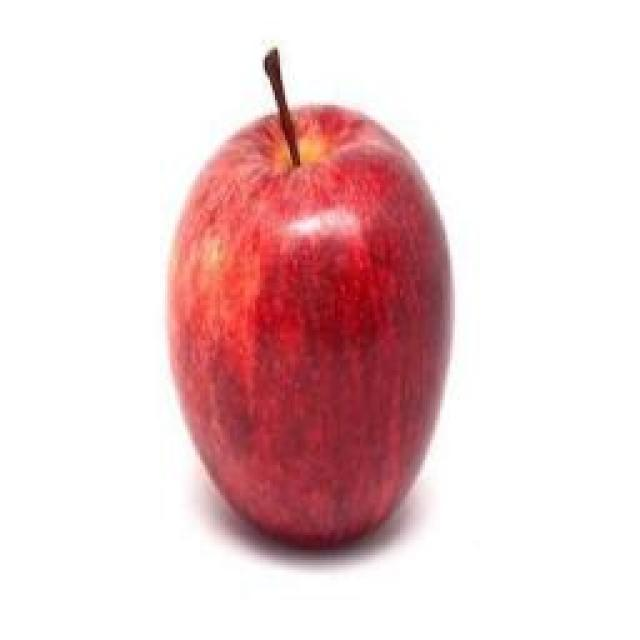Apple: (169, 49, 451, 547)
